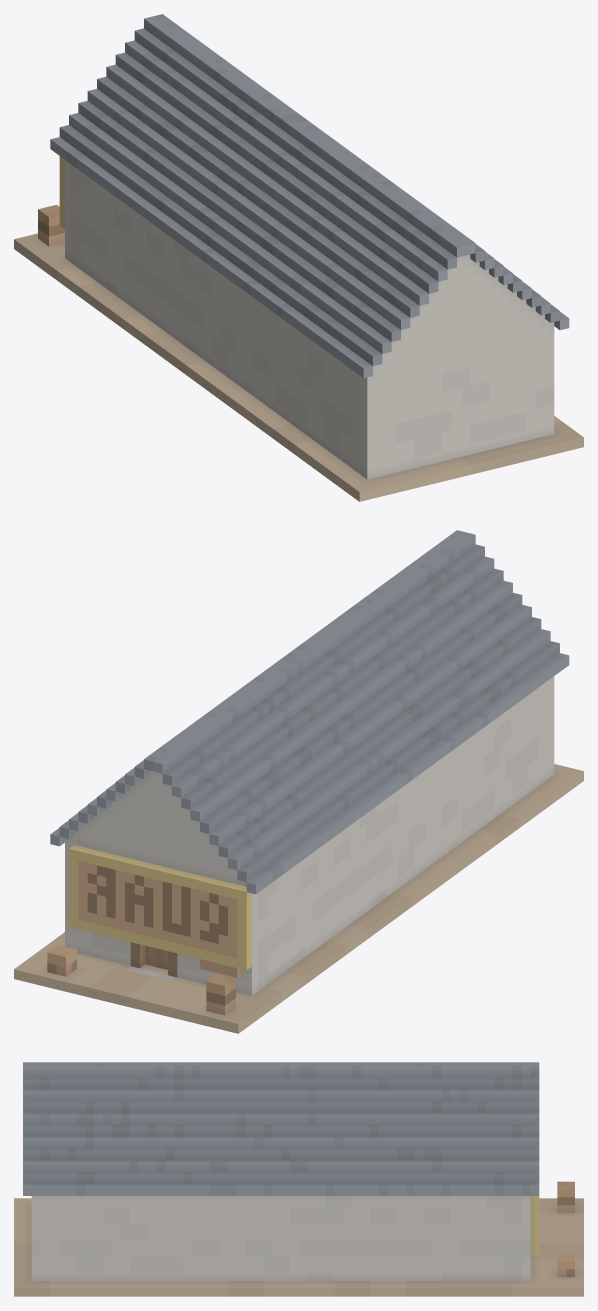
The model's file is quartz_quarry.glb.
3 renders of one model, top to bottom at view 1: azimuth 30°, elevation 25°; view 2: azimuth 150°, elevation 25°; view 3: azimuth 270°, elevation 25°, orthographic. The views are drawn at different scales.
Visible parts, largest first — view 1: quartz_quarry; view 2: quartz_quarry; view 3: quartz_quarry.
Boxes of the visible parts, x1,y1,x2,y2 form: quartz_quarry: [14, 14, 583, 501]; quartz_quarry: [14, 530, 583, 1033]; quartz_quarry: [14, 1062, 583, 1296].
Size of the model in its own units: 3 by 2.88 by 8.
